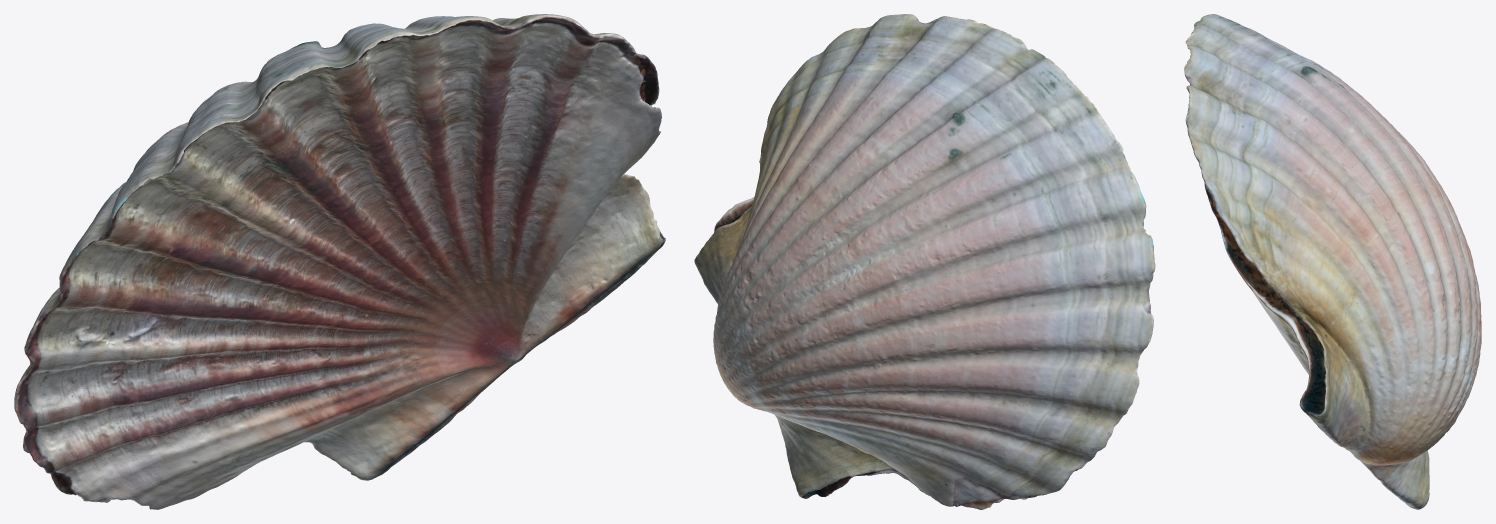
File: MZUR3D-041.glb
3 renders of one model, left to right at view 1: azimuth 30°, elevation 25°; view 2: azimuth 150°, elevation 25°; view 3: azimuth 270°, elevation 25°, orthographic. The views are drawn at different scales.
Parts seen in each view (by area): view 1: MZUR3D-041; view 2: MZUR3D-041; view 3: MZUR3D-041.
Boxes of the visible parts, x1,y1,x2,y2 form: MZUR3D-041: [14, 14, 665, 509]; MZUR3D-041: [694, 14, 1155, 509]; MZUR3D-041: [1184, 14, 1481, 509].
Bounding box in the file's own units: 2.45 × 2.12 × 1.32.
1 material, 1 textured.
